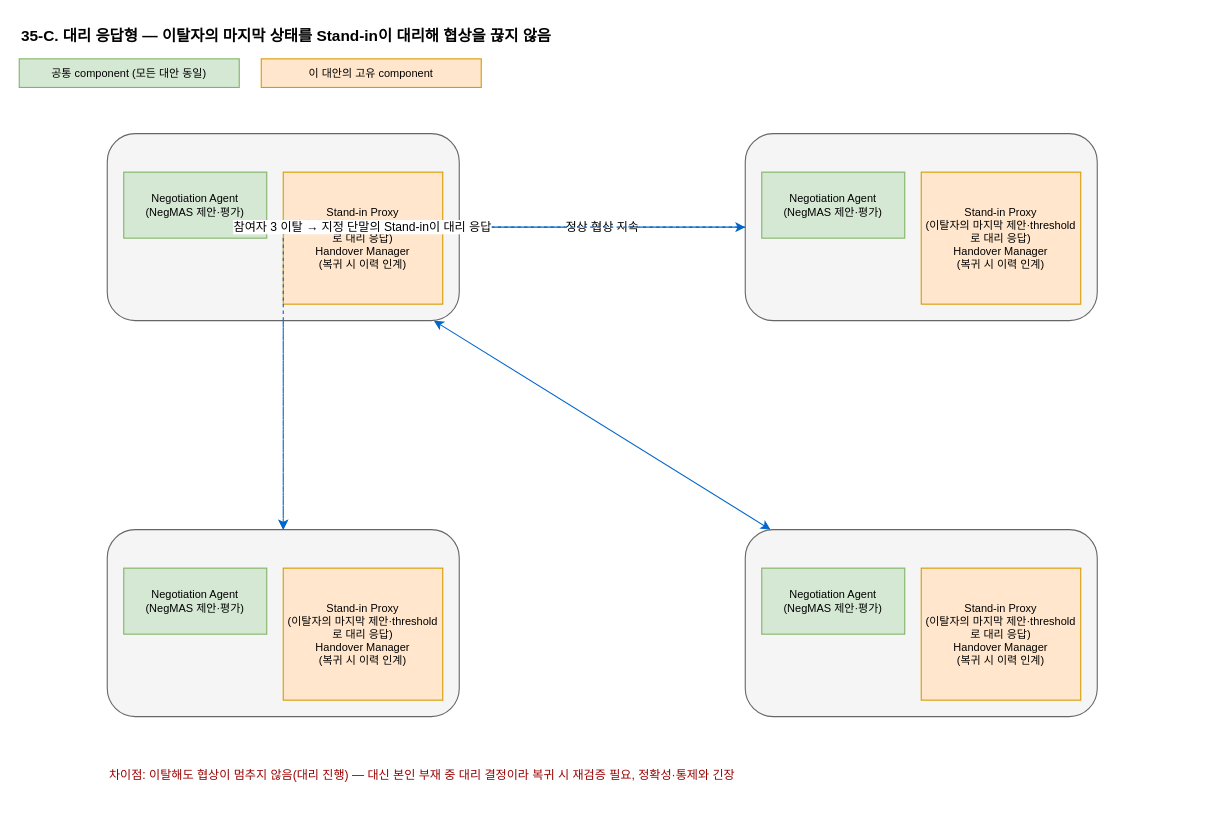
Some shapes in this 1205 by 823 pixel diagram are drawn without their labels. Each missing label, with the box of its shape:
개시자 단말: (106, 133, 459, 321)
참여자 단말 1: (744, 133, 1097, 321)
참여자 단말 2: (744, 529, 1097, 717)
참여자 단말 3: (106, 529, 459, 717)
